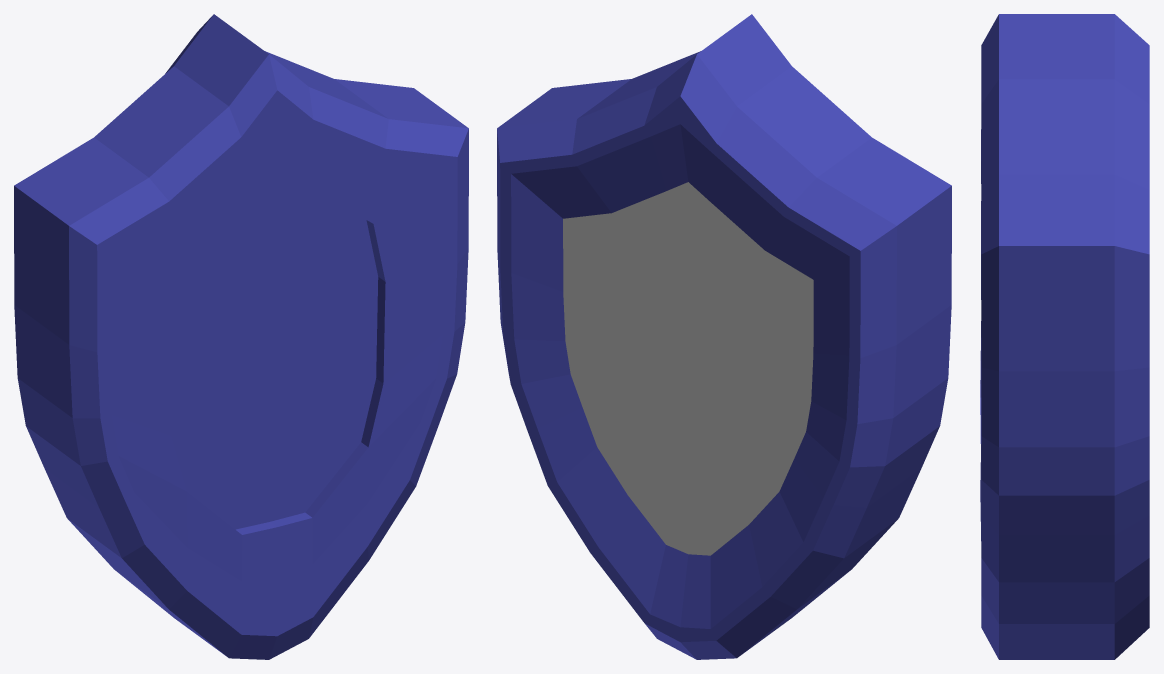
Rendered from Shield.fbx.
The picture shows the model from 3 angles, left to right: view 1: azimuth 30°, elevation 25°; view 2: azimuth 150°, elevation 25°; view 3: azimuth 270°, elevation 25°; orthographic projection. The views are drawn at different scales.
Parts seen in each view (by area): view 1: Cube.001; view 2: Cube.001; view 3: Cube.001.
Part boxes in pixels (left/top/right/bottom): Cube.001: left=14, top=14, right=468, bottom=659; Cube.001: left=497, top=14, right=951, bottom=659; Cube.001: left=980, top=14, right=1149, bottom=659.
Size of the model in its own units: 166 by 240 by 57.69.
